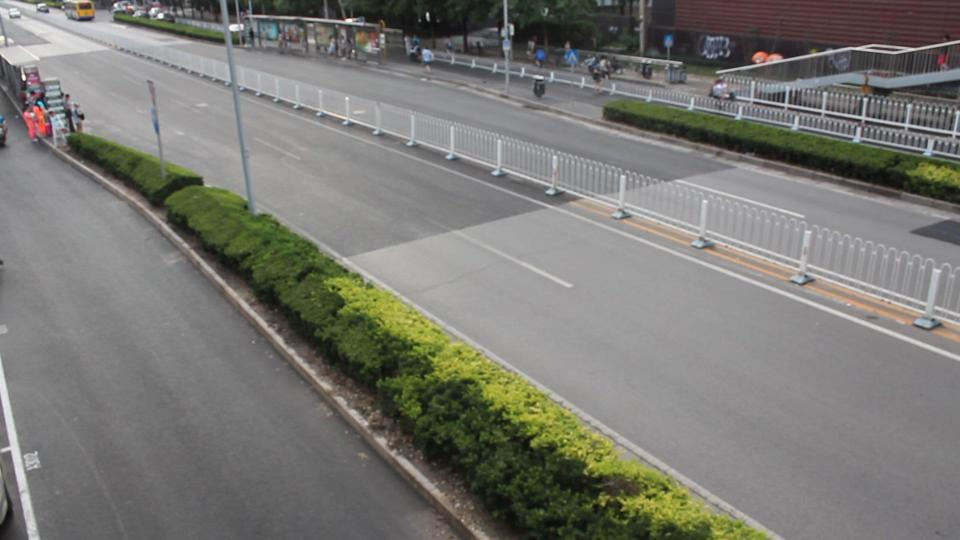car: (7, 9, 21, 19), (37, 4, 50, 13)
person: (588, 56, 613, 96), (710, 78, 732, 101), (420, 46, 434, 73), (751, 49, 770, 64), (767, 51, 784, 63)
truck: (62, 0, 96, 21)
